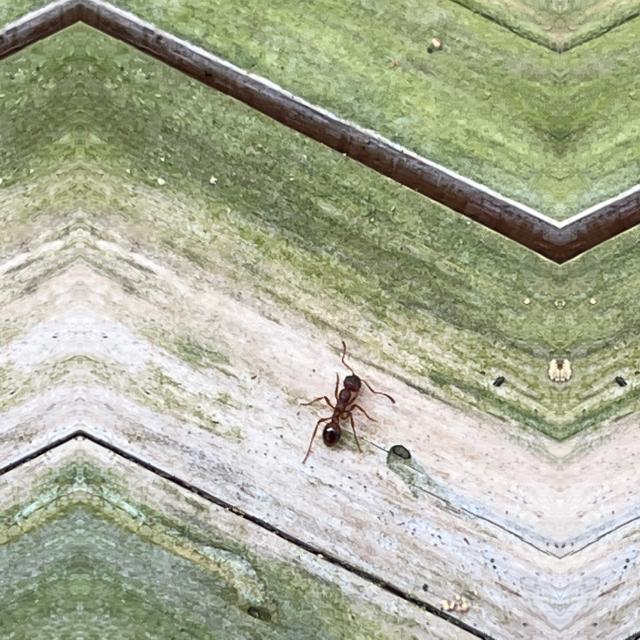Myrmica: (304, 356, 376, 460)
